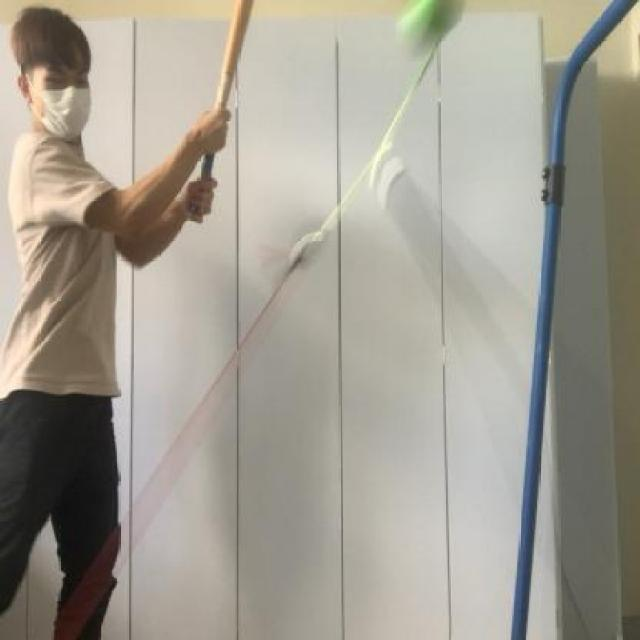baseball: (392, 0, 470, 54)
